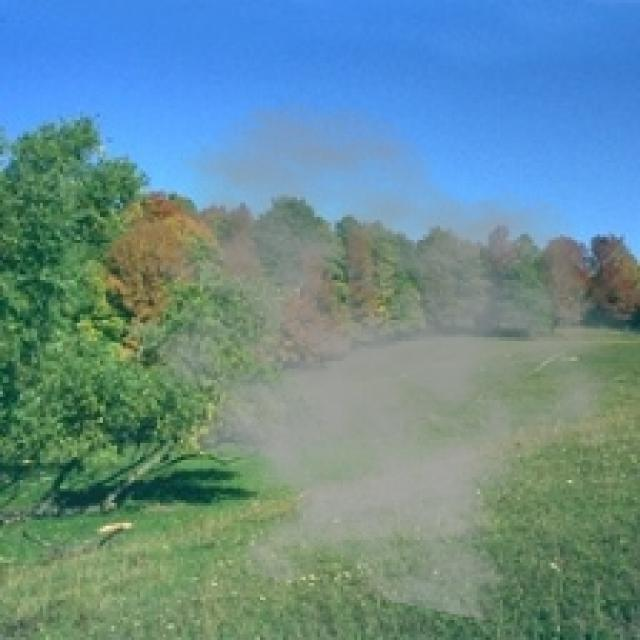smoke: (97, 97, 637, 626)
